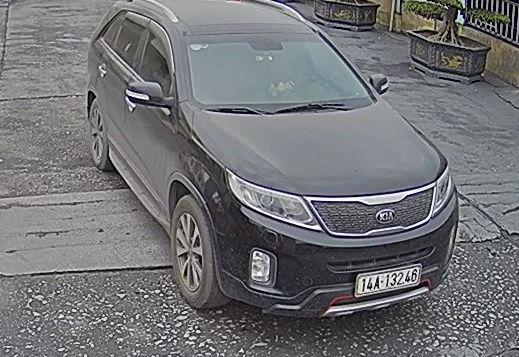vehicle plate: (355, 261, 426, 297)
